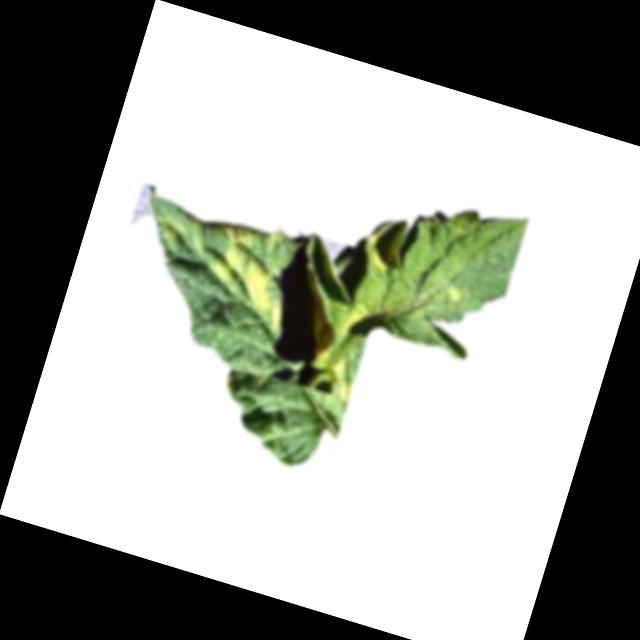Leaf_Mold: (195, 216, 306, 339), (279, 287, 375, 403), (361, 244, 394, 276)
